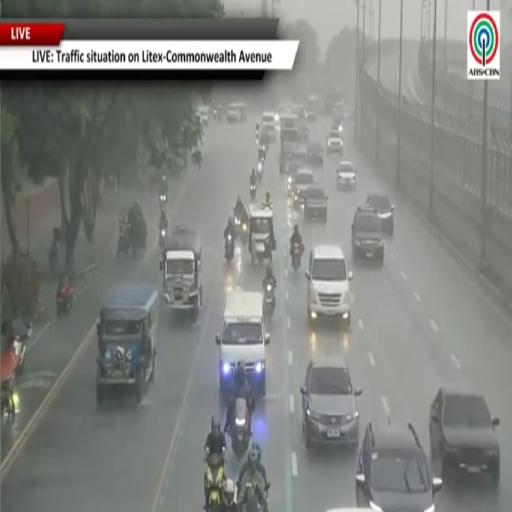car: (356, 422, 442, 511), (430, 386, 500, 485), (301, 356, 361, 449), (306, 246, 353, 326), (352, 206, 384, 265), (366, 194, 394, 235), (287, 147, 308, 196), (304, 186, 327, 222), (294, 168, 315, 207), (337, 162, 356, 189), (261, 111, 276, 141), (307, 142, 324, 167), (227, 103, 247, 123), (327, 130, 343, 155), (306, 94, 321, 120), (290, 104, 306, 122), (298, 121, 309, 143), (198, 105, 209, 125), (330, 119, 343, 133), (327, 507, 372, 511), (306, 108, 317, 121)
jeepney: (96, 283, 158, 406), (161, 227, 202, 318), (249, 208, 275, 263)
motorcycle: (230, 397, 251, 460), (205, 454, 224, 511), (13, 323, 32, 373), (0, 377, 19, 418), (245, 483, 269, 511), (57, 288, 73, 316), (264, 280, 275, 319), (235, 216, 248, 245), (117, 227, 130, 255), (48, 240, 58, 274), (292, 244, 303, 273), (224, 234, 234, 264), (159, 229, 166, 249), (159, 194, 167, 211), (257, 160, 263, 182), (258, 146, 266, 162), (250, 184, 256, 201)
truck: (280, 114, 299, 173)
